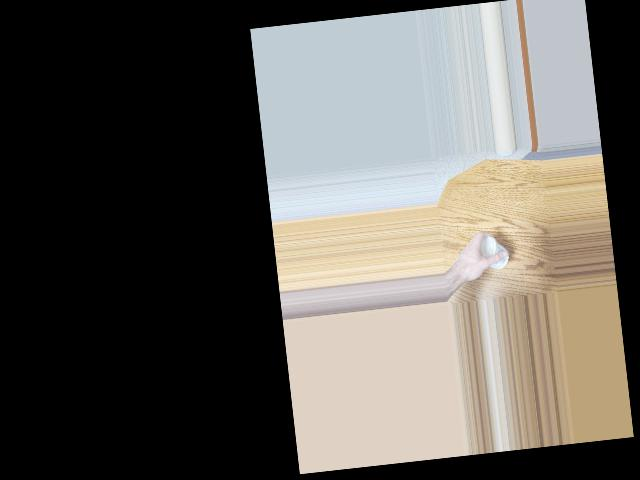cotage: (476, 227, 510, 267)
